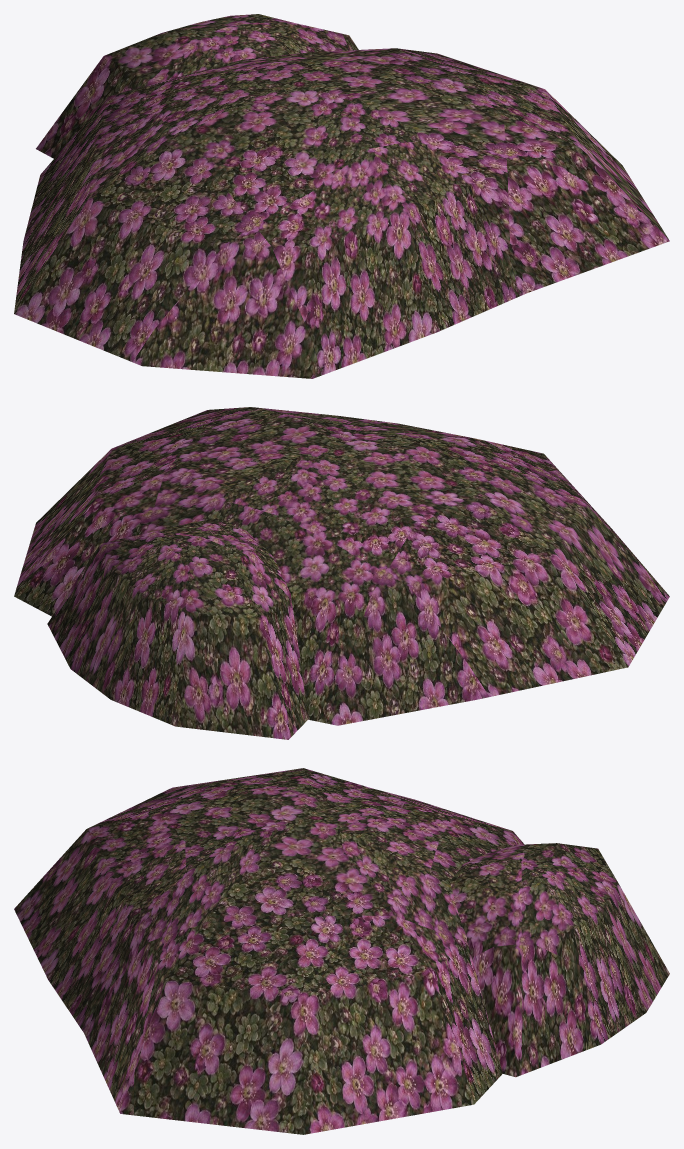
The model's file is veg_saxifrage.glb.
3 renders of one model, top to bottom at view 1: azimuth 30°, elevation 25°; view 2: azimuth 150°, elevation 25°; view 3: azimuth 270°, elevation 25°, orthographic. The views are drawn at different scales.
Parts seen in each view (by area): view 1: veg_saxifrage; view 2: veg_saxifrage; view 3: veg_saxifrage.
Boxes of the visible parts, x1,y1,x2,y2 form: veg_saxifrage: (14,14,669,378); veg_saxifrage: (14,407,669,739); veg_saxifrage: (14,768,669,1134).
Size of the model in its own units: 0.6143 by 0.15 by 0.5591.
Materials: 1 (1 with a texture image).
